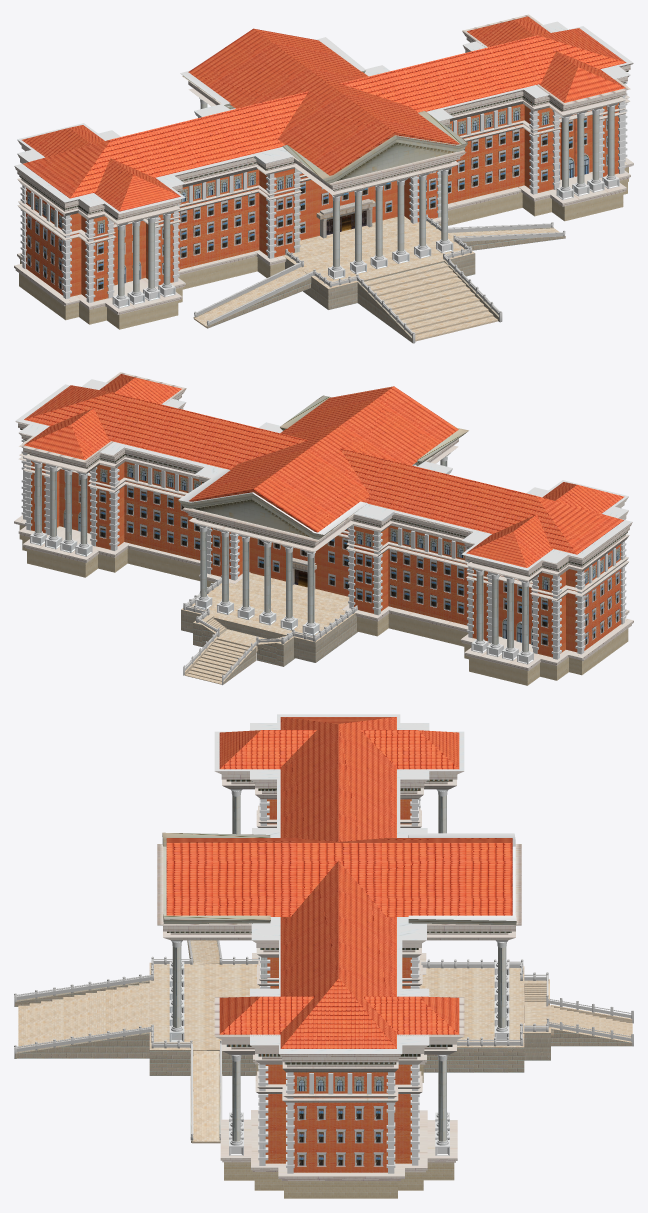
The model's file is 明远楼 3.fbx.
3 renders of one model, top to bottom at view 1: azimuth 30°, elevation 25°; view 2: azimuth 150°, elevation 25°; view 3: azimuth 270°, elevation 25°, orthographic. The views are drawn at different scales.
Parts seen in each view (by area): view 1: polySurface697; view 2: polySurface697; view 3: polySurface697.
Boxes of the visible parts, left/top/right/bottom form: polySurface697: left=14, top=14, right=633, bottom=343; polySurface697: left=14, top=372, right=633, bottom=685; polySurface697: left=14, top=714, right=633, bottom=1198.
Size of the model in its own units: 9.25 by 2.45 by 7.13.
